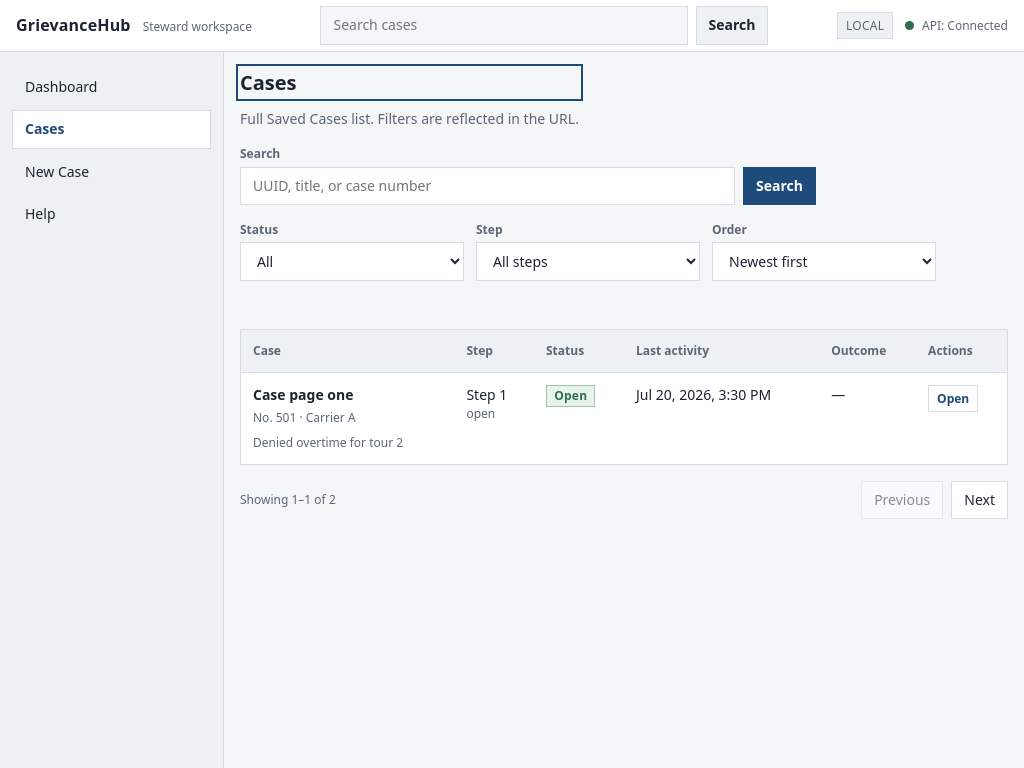
Test: Saved Cases M1 › paginates with limit and offset query params
Expected: the button named "Open Case page one" is shown, 253,385 -> 442,426
Click the button "Next": (980, 500) 951,481 -> 1008,519
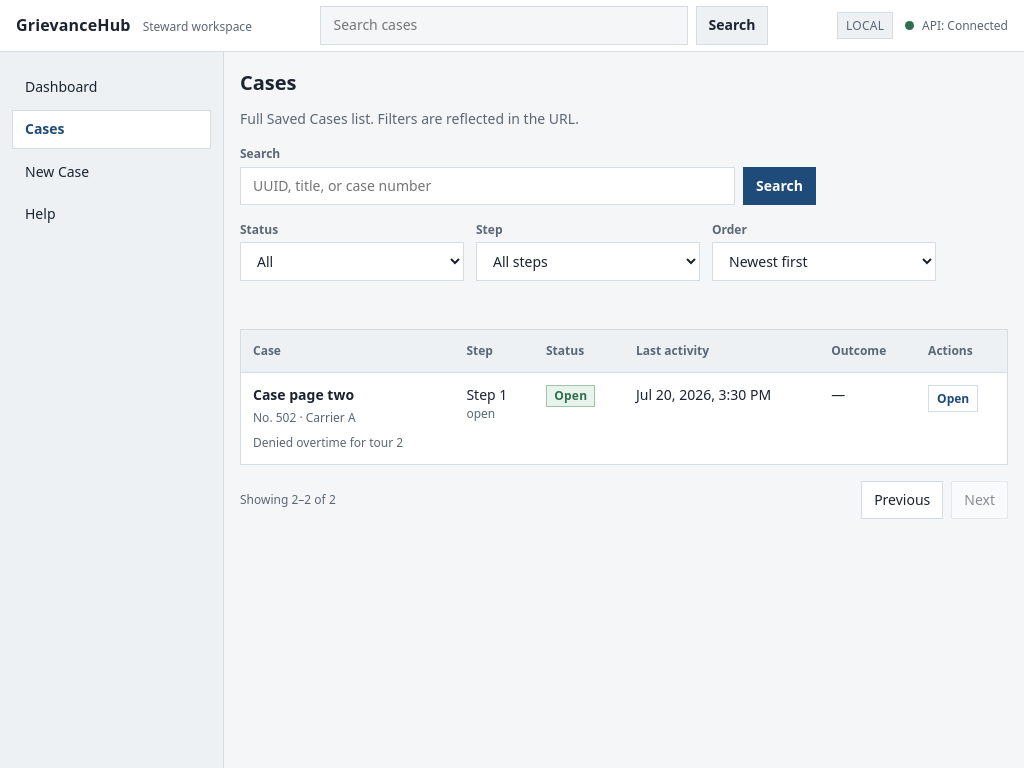
Result: the button named "Open Case page two" is shown at 253,385 -> 442,426
